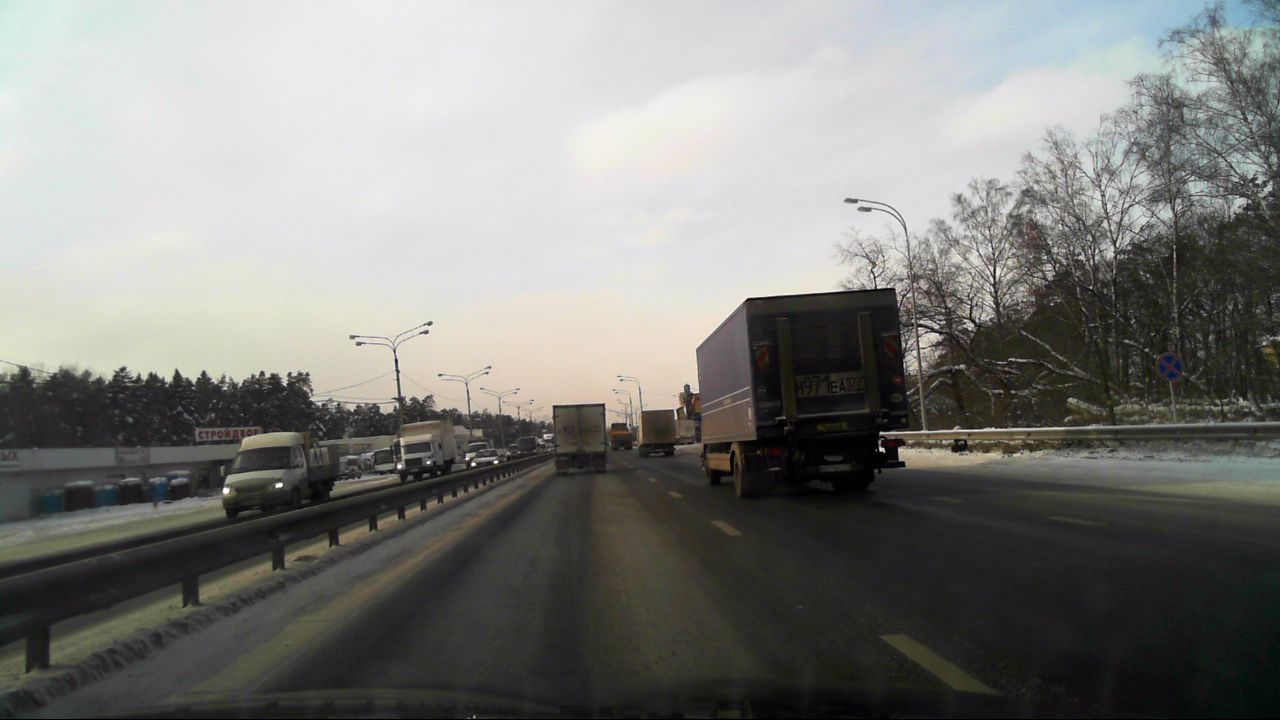No Parking: (1155, 352, 1184, 382)
